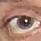eye: (18, 18, 32, 29)
